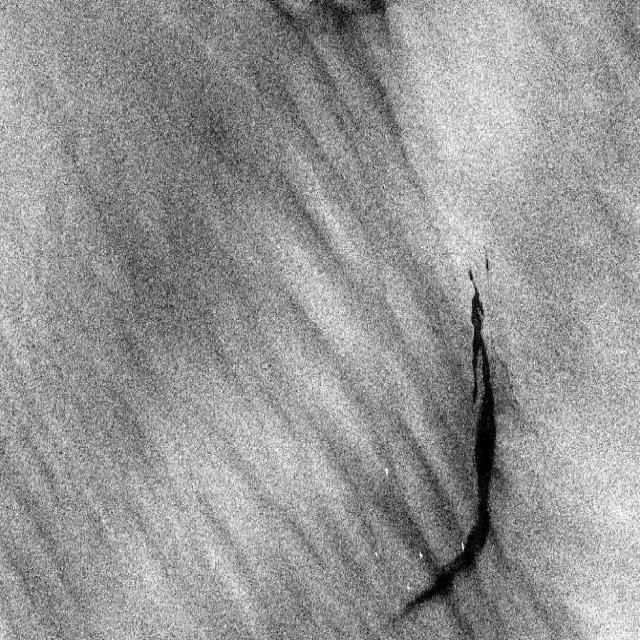oil-spill: (392, 260, 508, 629)
